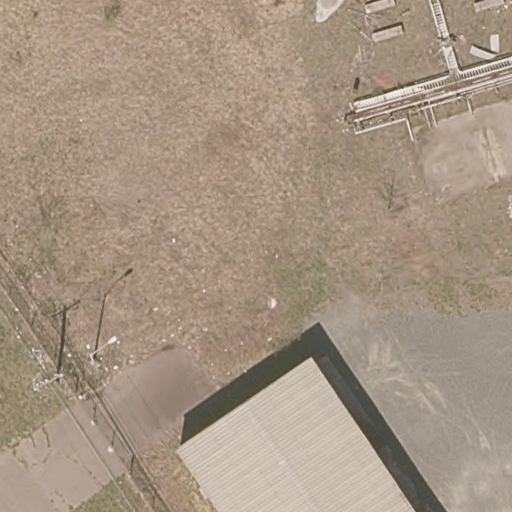DT: (35, 371, 66, 391)
